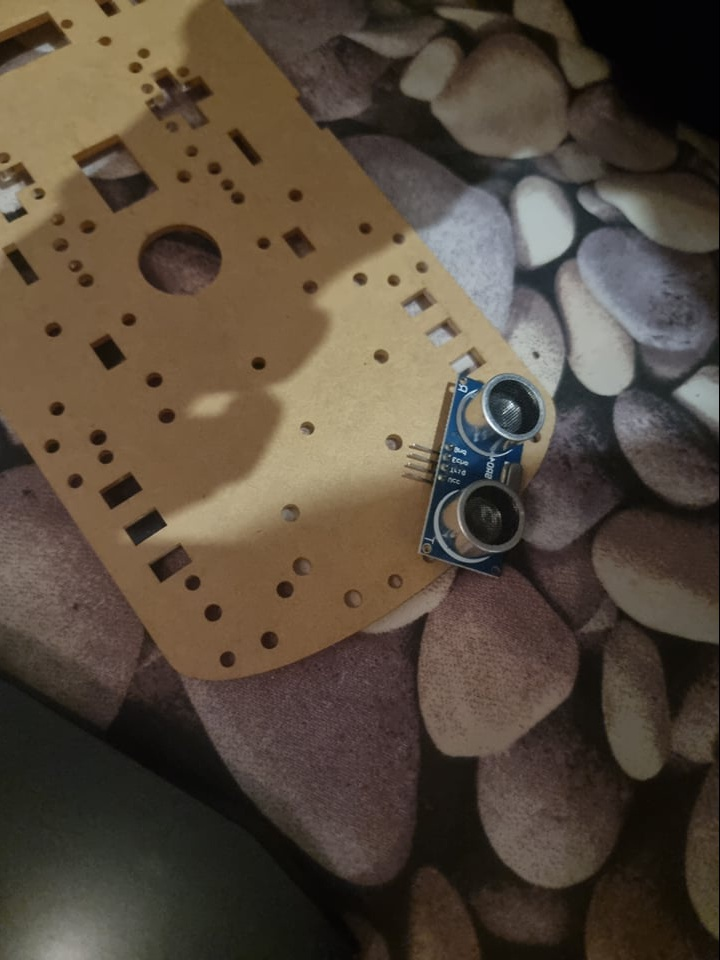SENSOR: (420, 372, 548, 581)
